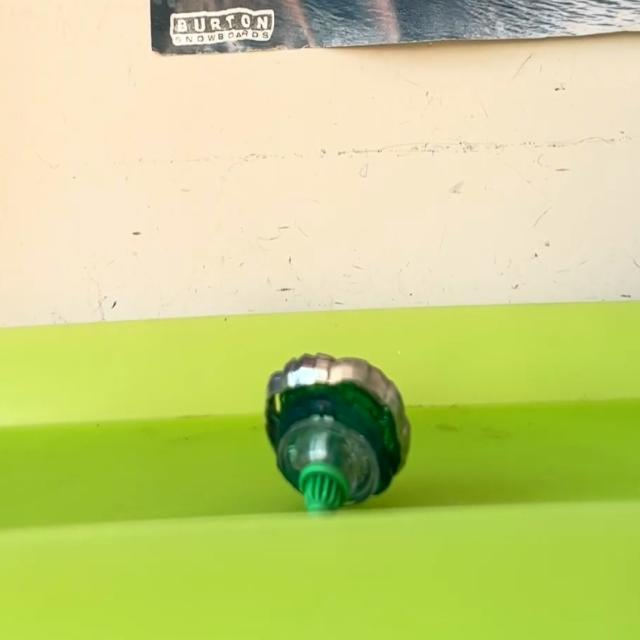Beyblade: (266, 353, 411, 515)
